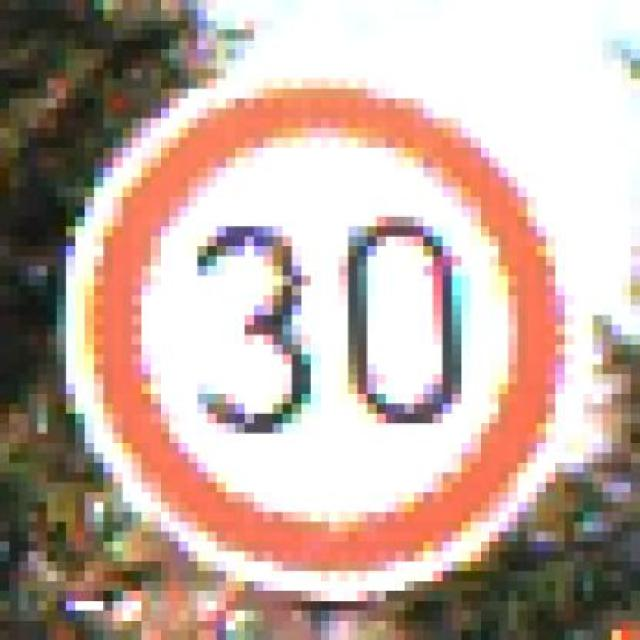Speed Limit 30 KMPh: (47, 39, 611, 621)
